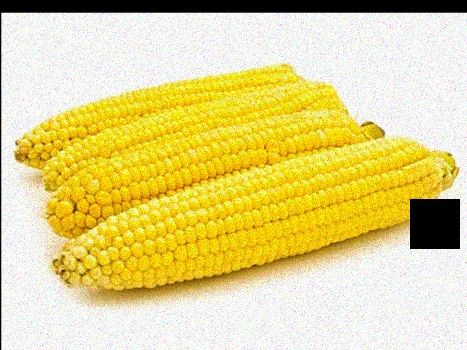corn: (58, 134, 446, 295), (41, 115, 371, 241), (37, 83, 333, 188)
